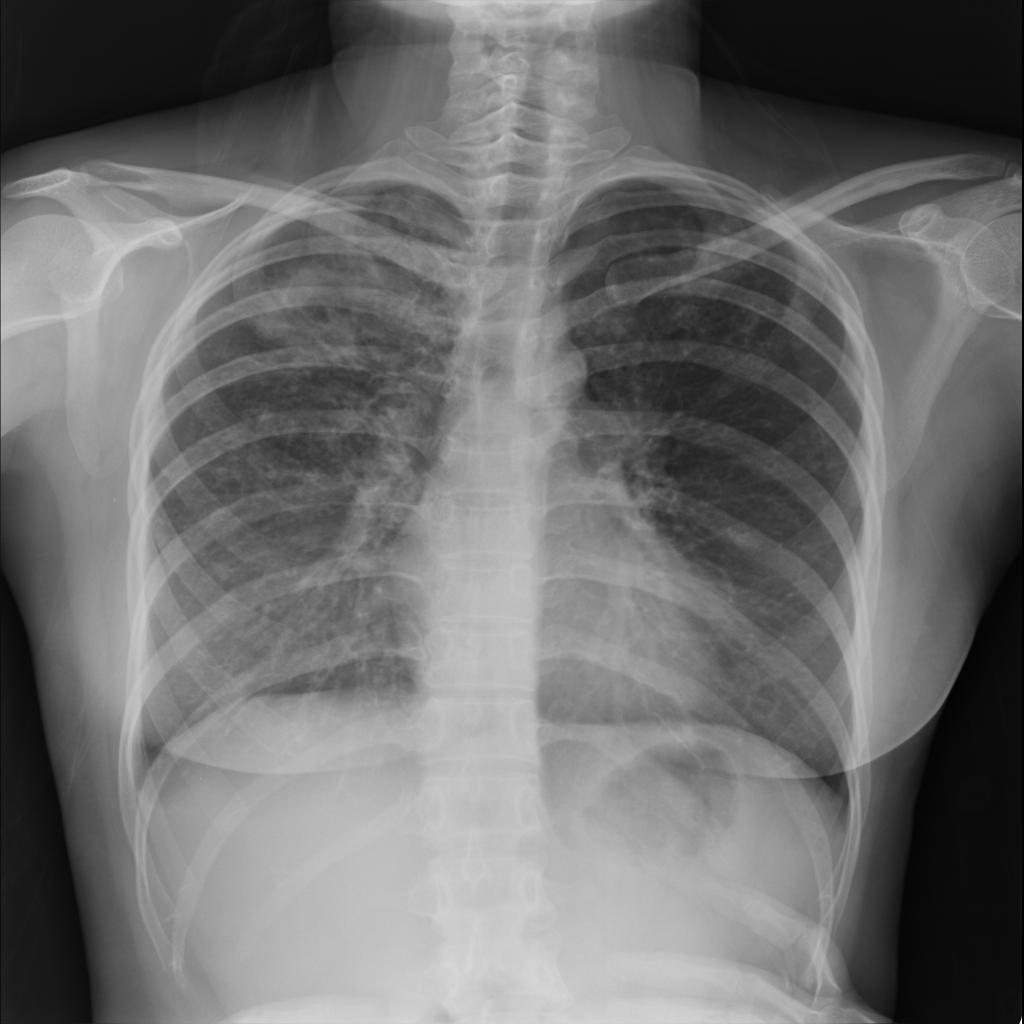Nodule: (574, 222, 788, 363)
